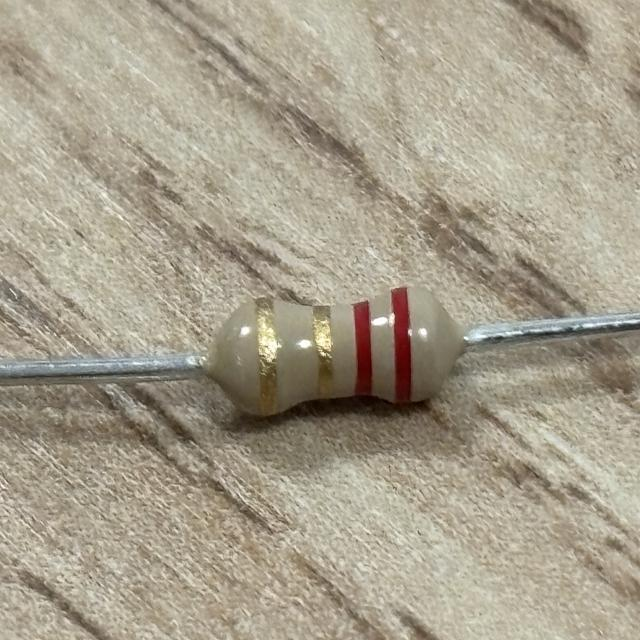resistor: (225, 278, 450, 427)
